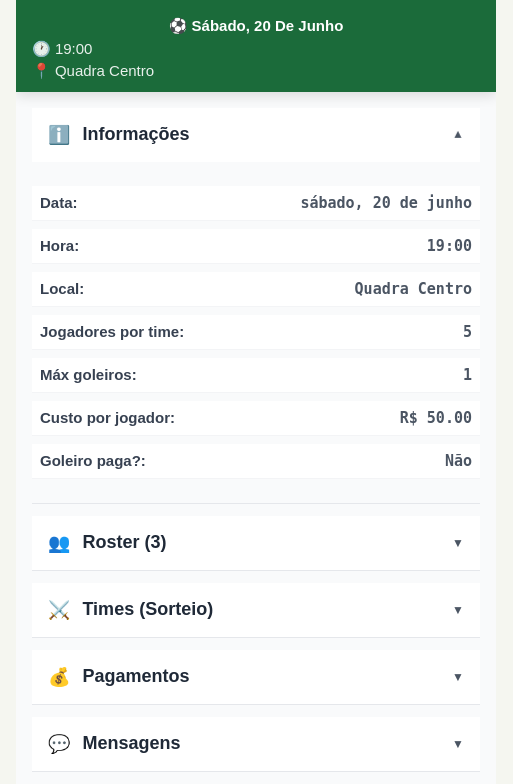
Test case: PeladaScreen › Payments tab goalkeeper_pays filter › hides goalkeeper from payments when goalkeeper_pays is false
The width and height of the screenshot is (513, 784).
Click the button "💰 Pagamentos ▼". click: click(136, 676)
box: [32,650,480,704]
(page scrolled)
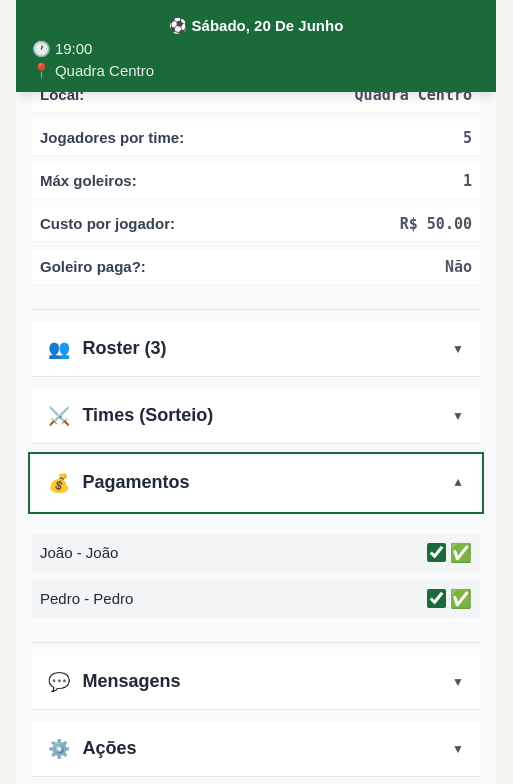
Check: the checkbox named "Marcar João como pago" is shown, box [427,543,446,562]
Check: the checkbox named "Marcar Pedro como pago" is shown, box [427,589,446,608]
